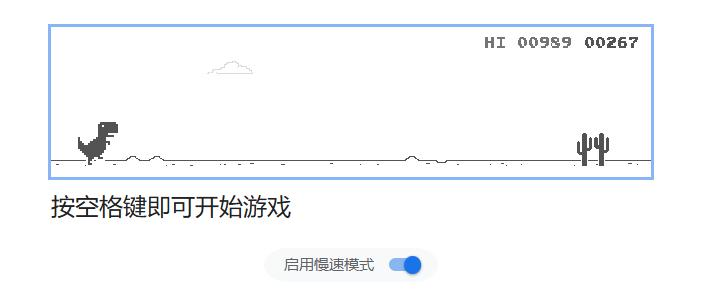cactus: (575, 131, 610, 167)
dino: (75, 120, 119, 166)
